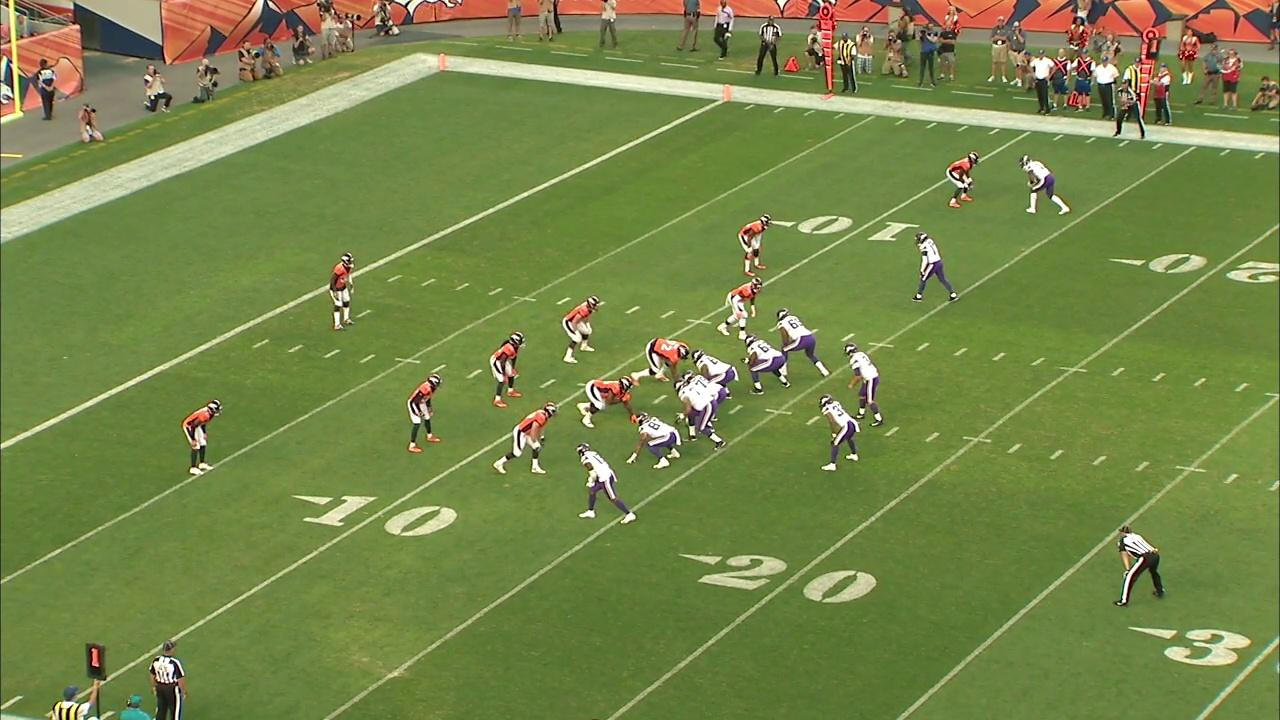five_hash: (962, 434, 993, 445), (1059, 365, 1087, 375), (764, 407, 794, 416), (1174, 464, 1206, 472), (393, 356, 421, 365), (868, 341, 895, 350), (686, 317, 712, 326), (513, 294, 537, 303)
hash: (418, 274, 438, 290), (1133, 458, 1152, 474), (251, 336, 271, 351), (990, 349, 1008, 365), (1006, 441, 1024, 457), (485, 285, 505, 299), (1048, 446, 1065, 462), (651, 391, 668, 407), (385, 271, 403, 286), (914, 339, 932, 354), (881, 425, 900, 439), (429, 361, 449, 374), (454, 280, 471, 295), (624, 303, 642, 317), (923, 430, 941, 444), (951, 345, 970, 358), (538, 378, 558, 390), (358, 352, 378, 364), (322, 347, 342, 359), (555, 294, 572, 308), (1091, 453, 1108, 467), (726, 403, 745, 415), (287, 342, 306, 354), (1193, 375, 1208, 390), (659, 307, 675, 321), (1030, 354, 1046, 368), (1233, 381, 1249, 395), (1224, 471, 1238, 487), (1150, 371, 1167, 384), (466, 368, 484, 380), (1110, 365, 1126, 378), (805, 415, 822, 427), (839, 332, 856, 343)
marker: (1136, 29, 1159, 122), (817, 3, 839, 92)
number: (680, 541, 879, 608), (288, 479, 459, 542), (769, 208, 920, 246), (1148, 250, 1280, 283)
player: (722, 82, 733, 103), (437, 52, 446, 70)
